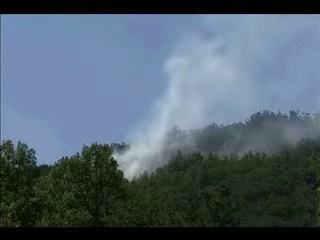smoke: (166, 18, 318, 159), (111, 95, 172, 183)
